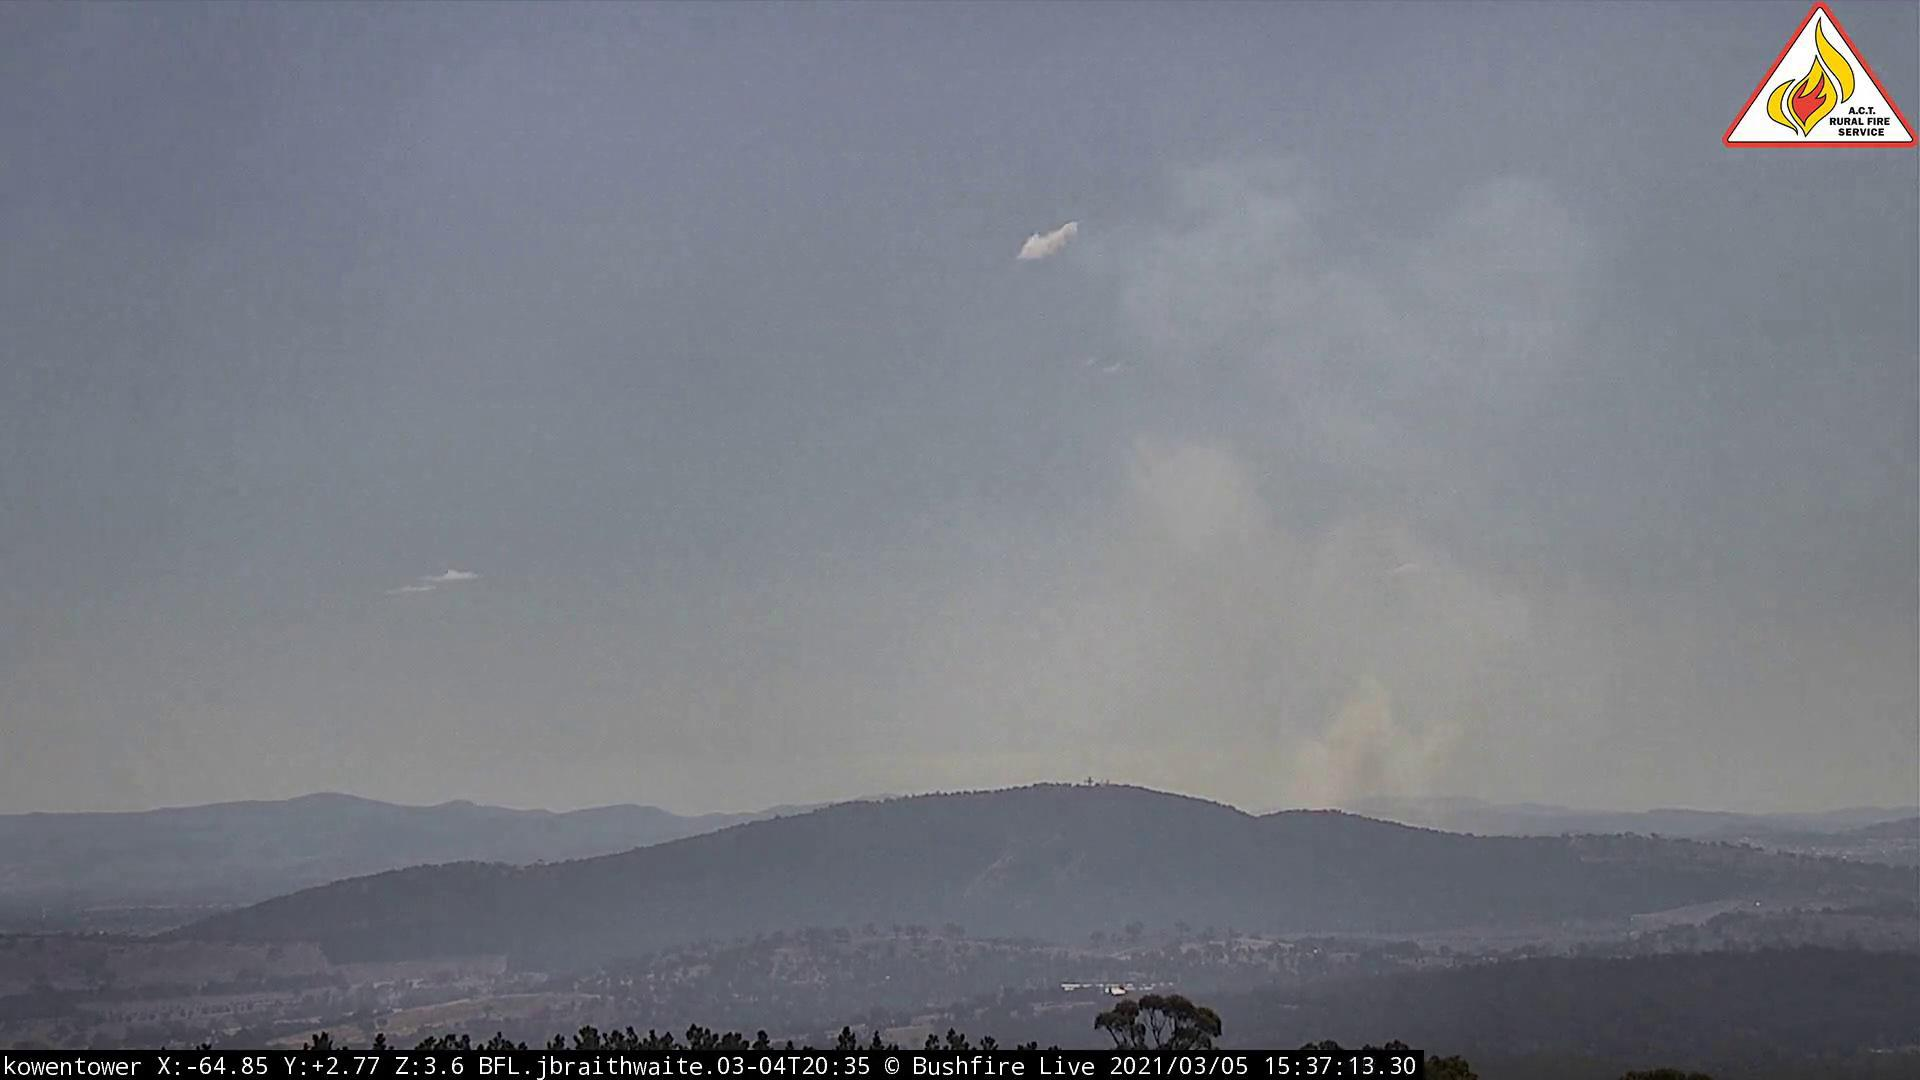Smoke: (949, 119, 1619, 858)
